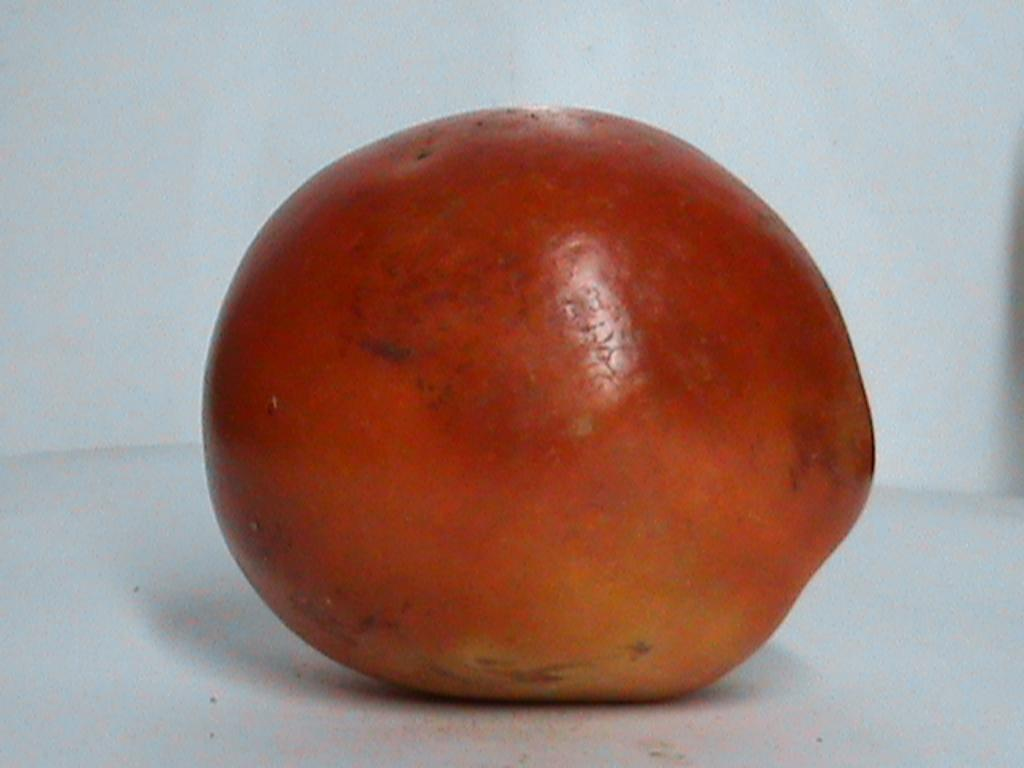bruise_discoloration: (250, 109, 872, 485)
tomato: (203, 110, 872, 699)
